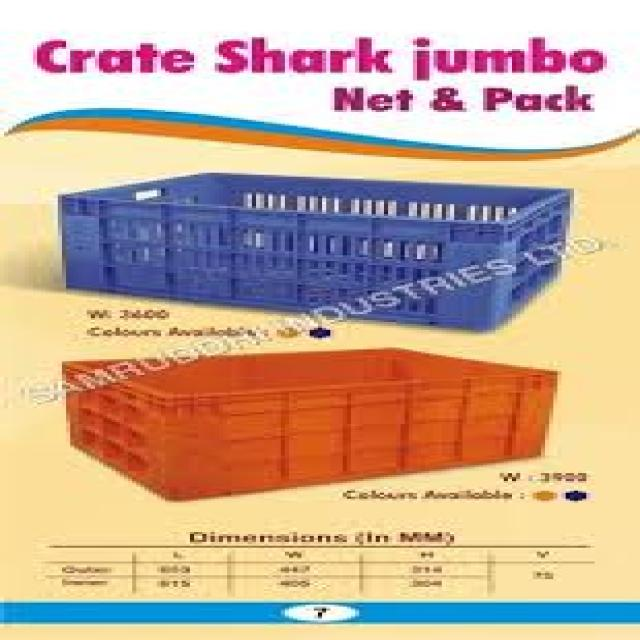basket: (56, 165, 568, 332), (68, 344, 561, 504)
